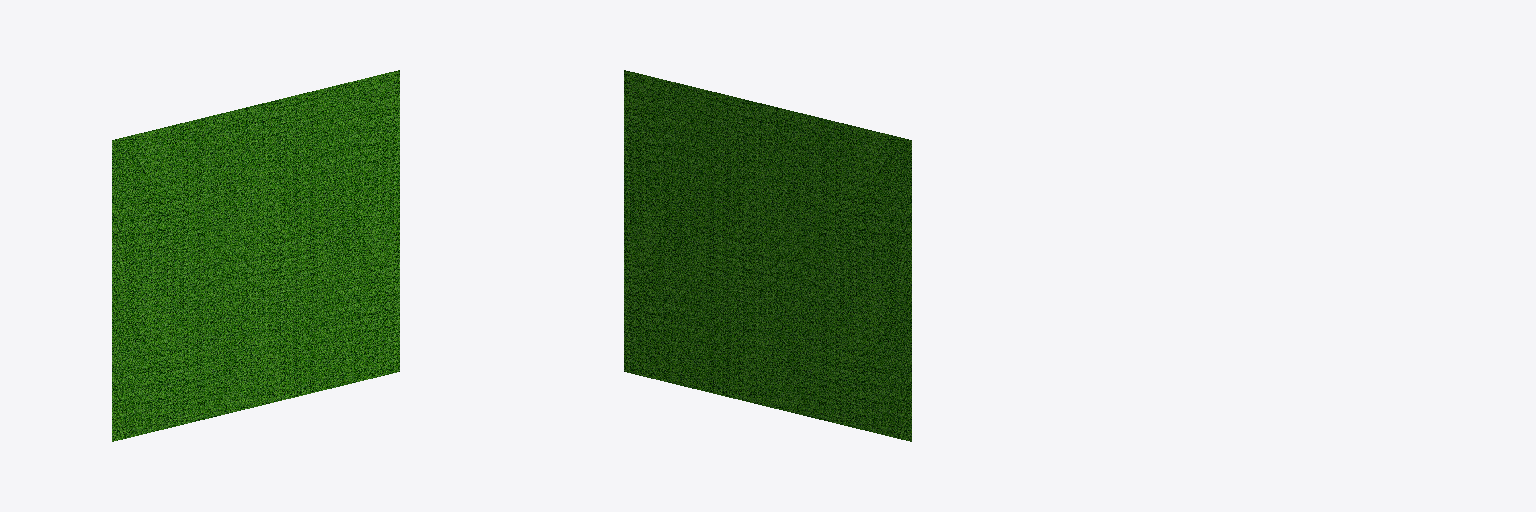
The picture shows the model from 3 angles: view 1: azimuth 30°, elevation 25°; view 2: azimuth 150°, elevation 25°; view 3: azimuth 270°, elevation 25°; orthographic projection.
Visible parts, largest first — view 1: Plane_Plane.001; view 2: Plane_Plane.001; view 3: none.
Part boxes in pixels (left/top/right/bottom): Plane_Plane.001: left=112, top=70, right=399, bottom=441; Plane_Plane.001: left=624, top=70, right=911, bottom=441.
Size of the model in its own units: 100 by 100 by 0.
Materials: 1 (1 with a texture image).